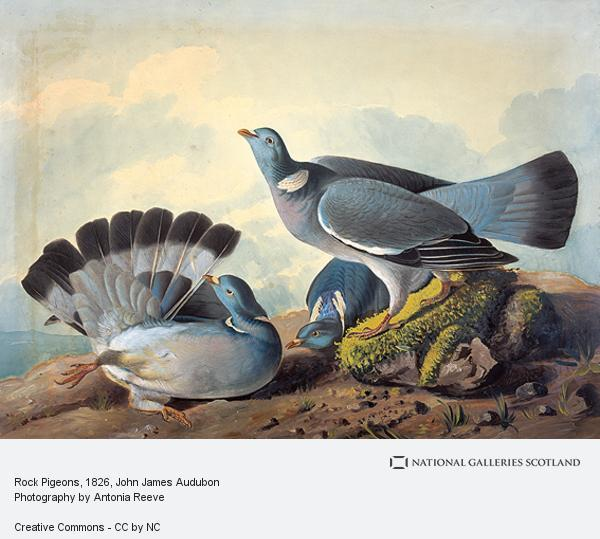Flying Rat: (242, 121, 553, 309), (36, 214, 263, 401), (292, 263, 388, 394)
